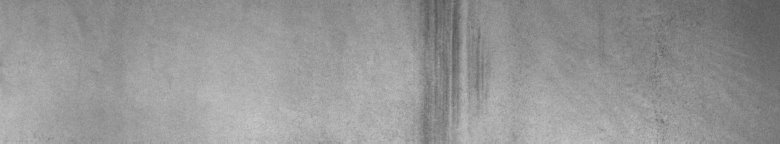ka: (421, 4, 487, 135)
